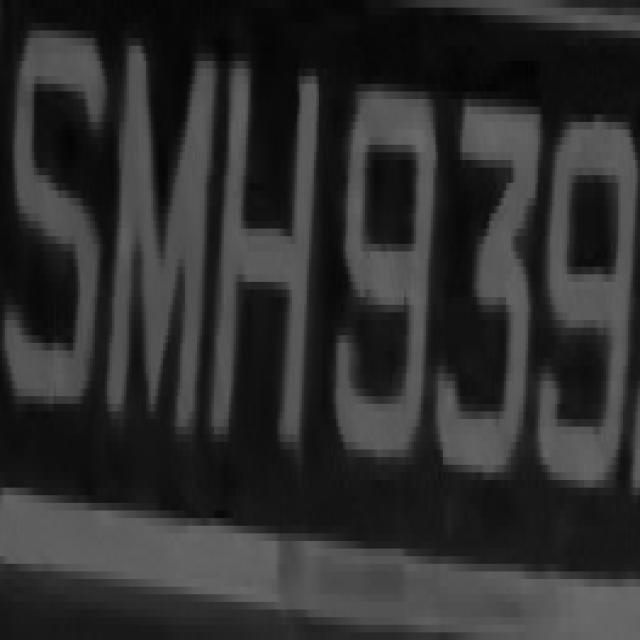3: (436, 30, 538, 503)
9: (536, 31, 638, 510), (331, 38, 438, 465)
H: (214, 30, 326, 472)
M: (102, 0, 214, 450)
S: (10, 15, 110, 450)
